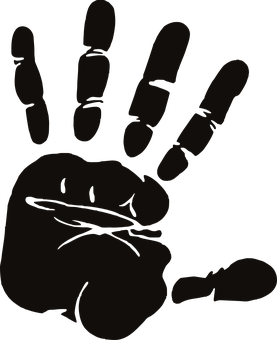palm: (17, 163, 159, 327)
